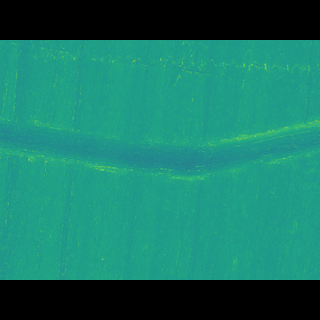Loch: (0, 125, 320, 177)
